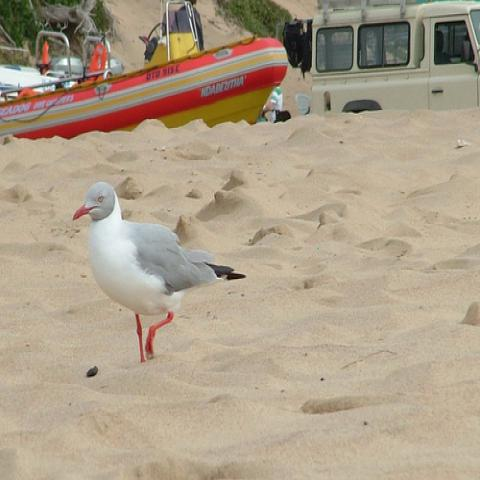bus: (307, 2, 479, 114)
truck: (297, 3, 479, 115)
